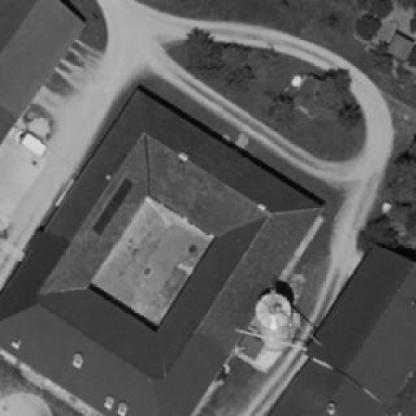solar-pv-panel: (90, 176, 136, 237)
